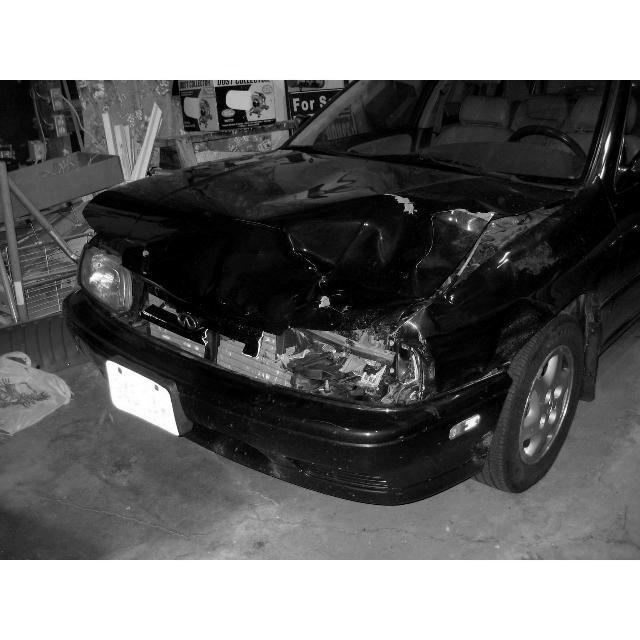bonnet-dent: (116, 151, 463, 303)
